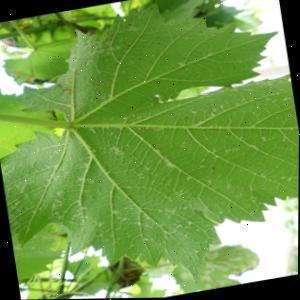Folha: (0, 0, 300, 300), (0, 13, 89, 88)
Fungo: (202, 240, 261, 282), (69, 33, 119, 76), (240, 76, 292, 114), (120, 113, 178, 143), (79, 115, 119, 144), (34, 159, 71, 184), (118, 23, 152, 44), (7, 212, 34, 238), (69, 204, 93, 225), (169, 218, 191, 239), (48, 189, 68, 212), (51, 81, 74, 100), (156, 200, 181, 215), (104, 141, 126, 158), (218, 145, 240, 162), (128, 216, 152, 231), (107, 205, 125, 223), (229, 186, 249, 201), (255, 130, 271, 148), (74, 173, 93, 187), (277, 172, 299, 184), (204, 108, 218, 126), (98, 233, 119, 244), (134, 235, 153, 247), (91, 216, 107, 230), (162, 159, 180, 171), (93, 230, 111, 241), (5, 197, 19, 211), (244, 207, 259, 219), (27, 35, 42, 47), (11, 183, 25, 195), (22, 32, 37, 42), (22, 73, 37, 81), (135, 169, 148, 177), (111, 226, 125, 233), (11, 69, 22, 76), (62, 36, 71, 41)
